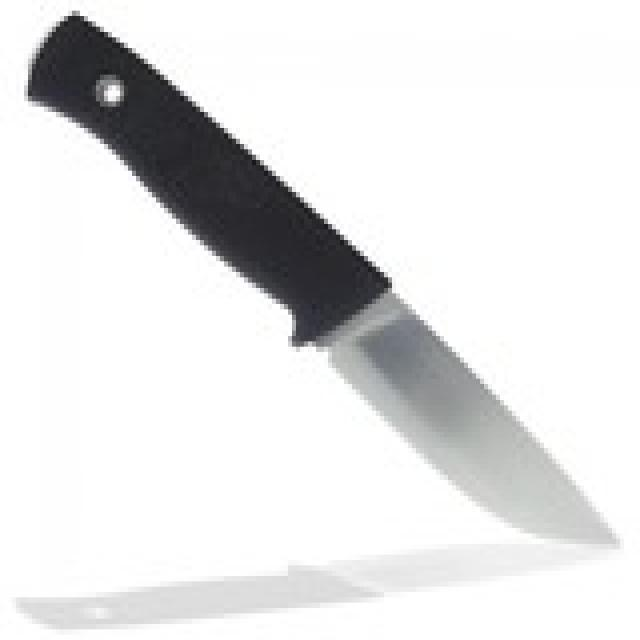Knife: (16, 0, 625, 560)
